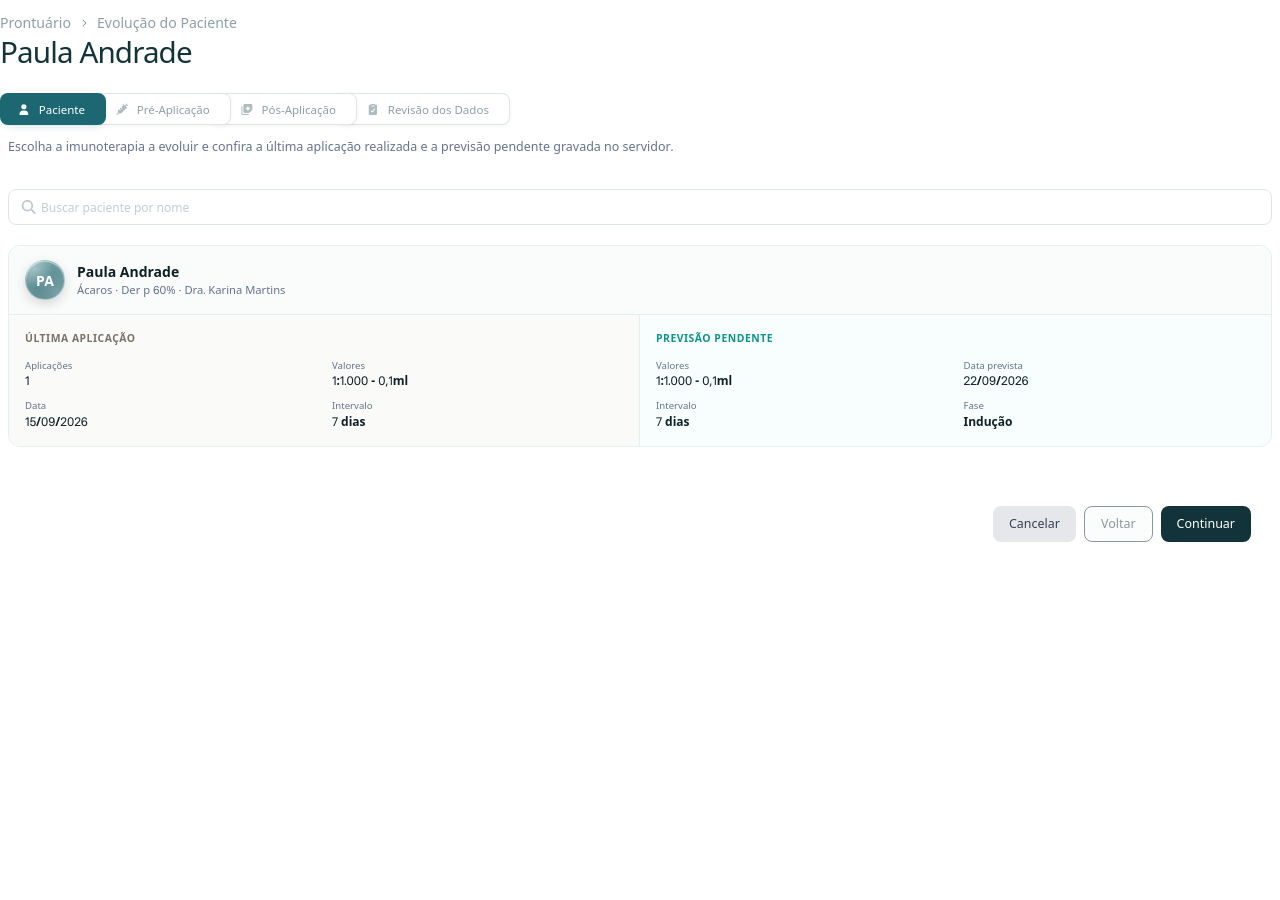
Test case: wizard de evolução sobre o contrato de doses › só libera a próxima aplicação depois que o servidor devolve a previsão
The image size is (1280, 900).
Expected: the text "Previsão pendente" is shown, [656, 331, 773, 345]
Click the button "Continuar" at (1206, 524), box [1161, 506, 1251, 542]
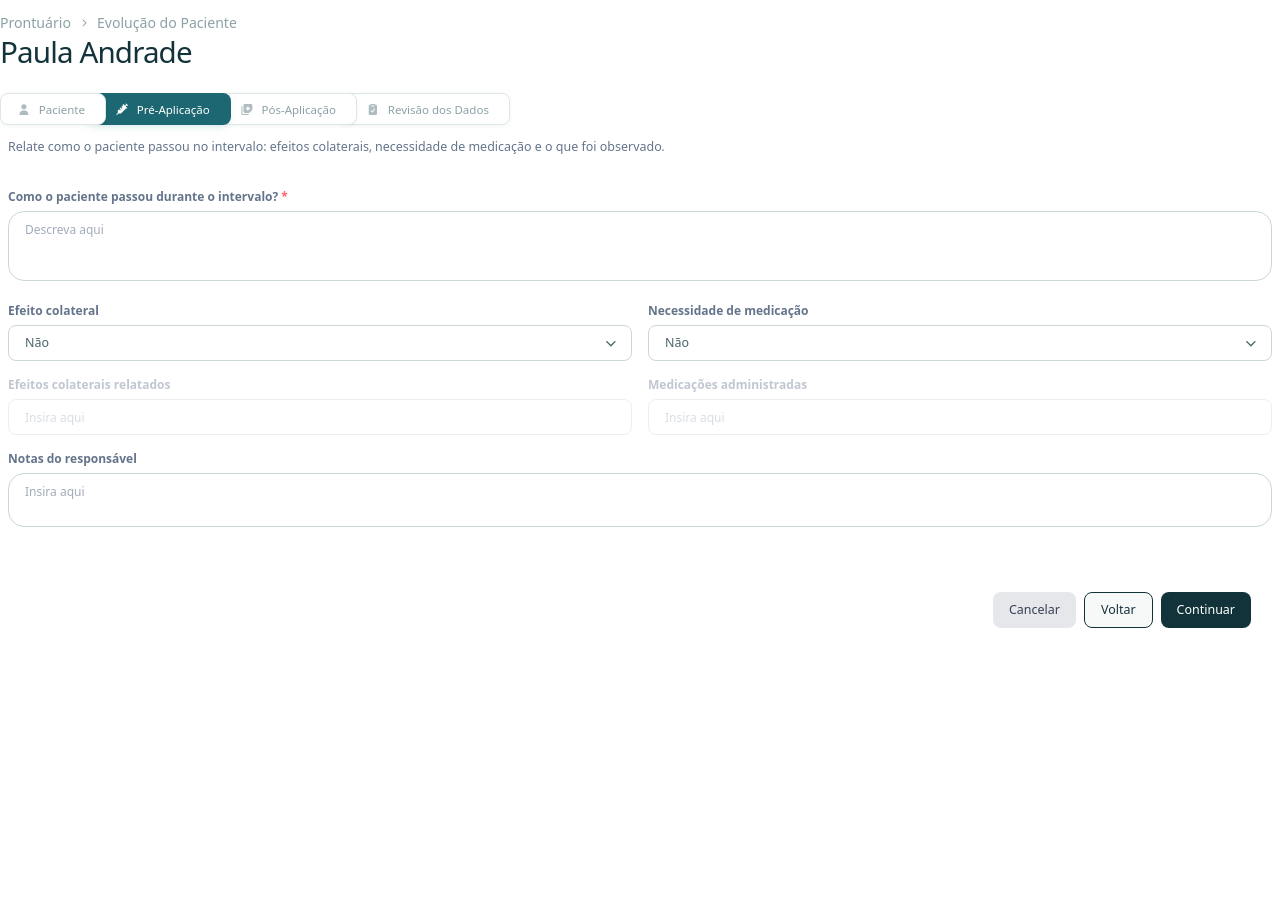
Type "Sem intercorrências no intervalo." into the text box with placeholder "Descreva aqui" at (640, 246), box [8, 211, 1272, 281]
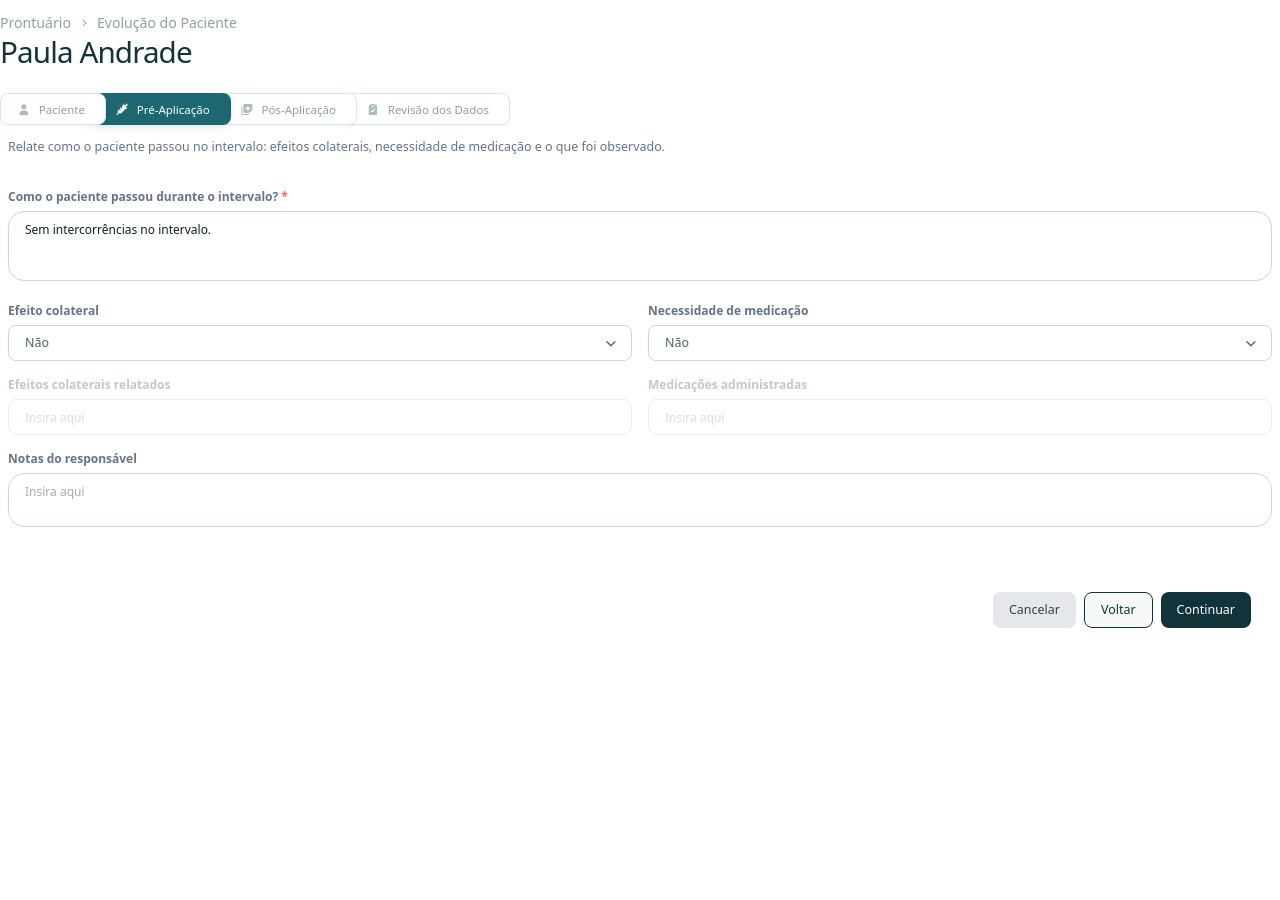
Click the button "Continuar" at (1206, 610), box [1161, 592, 1251, 628]
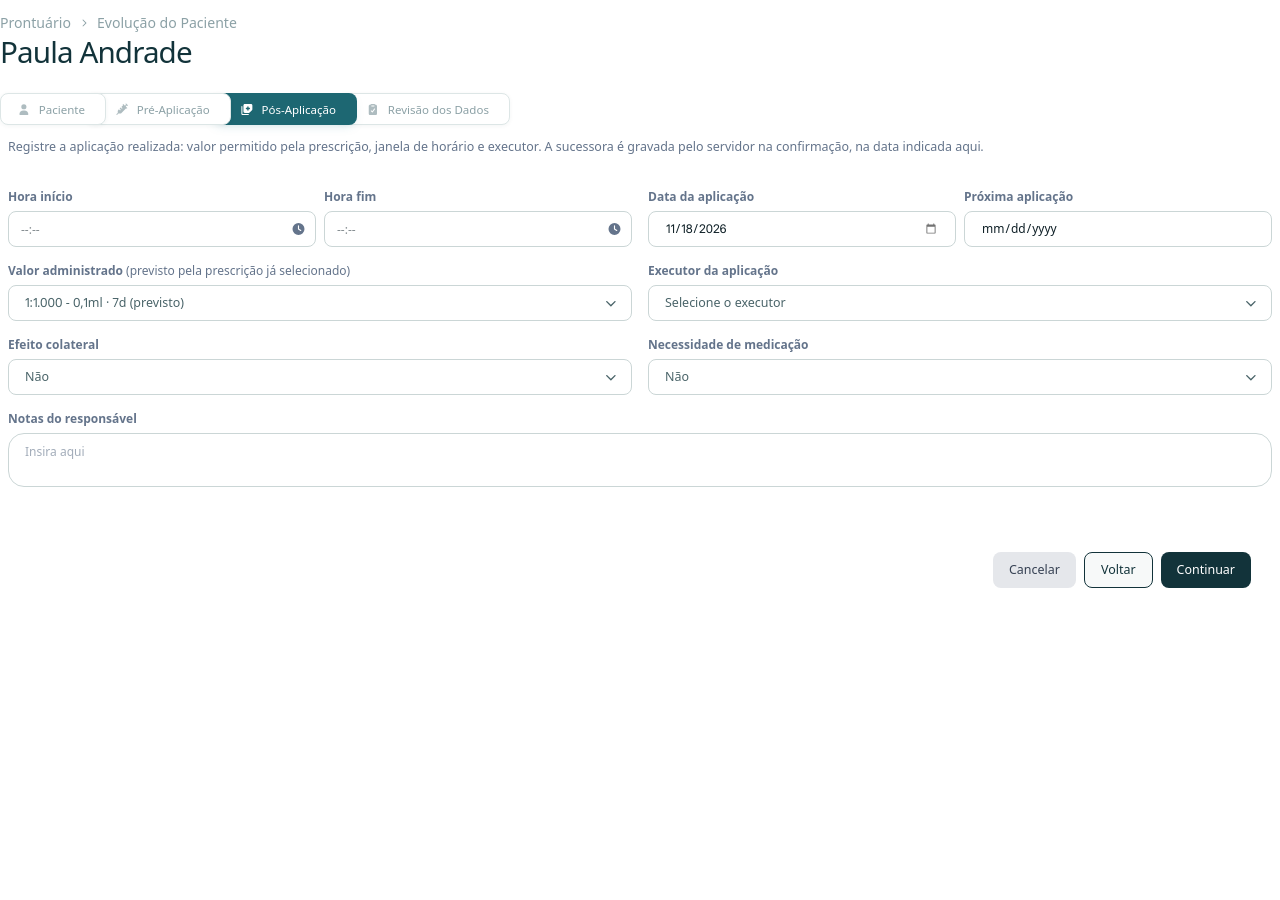
Expected: the text "Valor administrado (previsto pela prescrição já selecionado)" is shown, [8, 262, 350, 279]
Expected: the date field below "Próxima aplicação" is disabled, [964, 211, 1272, 247]
Expected: the date field below "Próxima aplicação" is empty, [964, 211, 1272, 247]
Type "10:00" into the field with placeholder "--:--" below "Hora início" at (162, 229), box [8, 211, 316, 247]
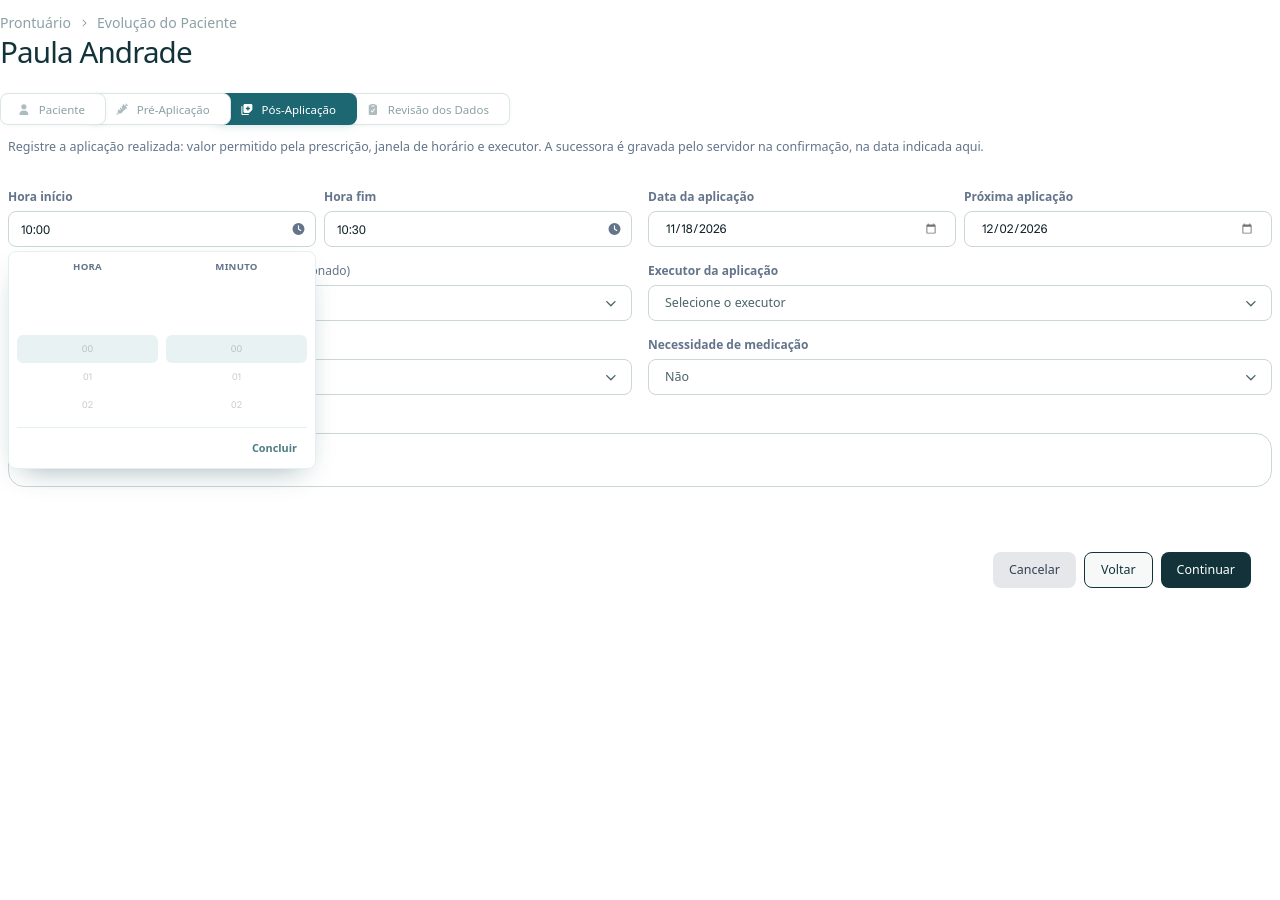
Expected: the date field below "Próxima aplicação" is enabled, [964, 211, 1272, 247]
